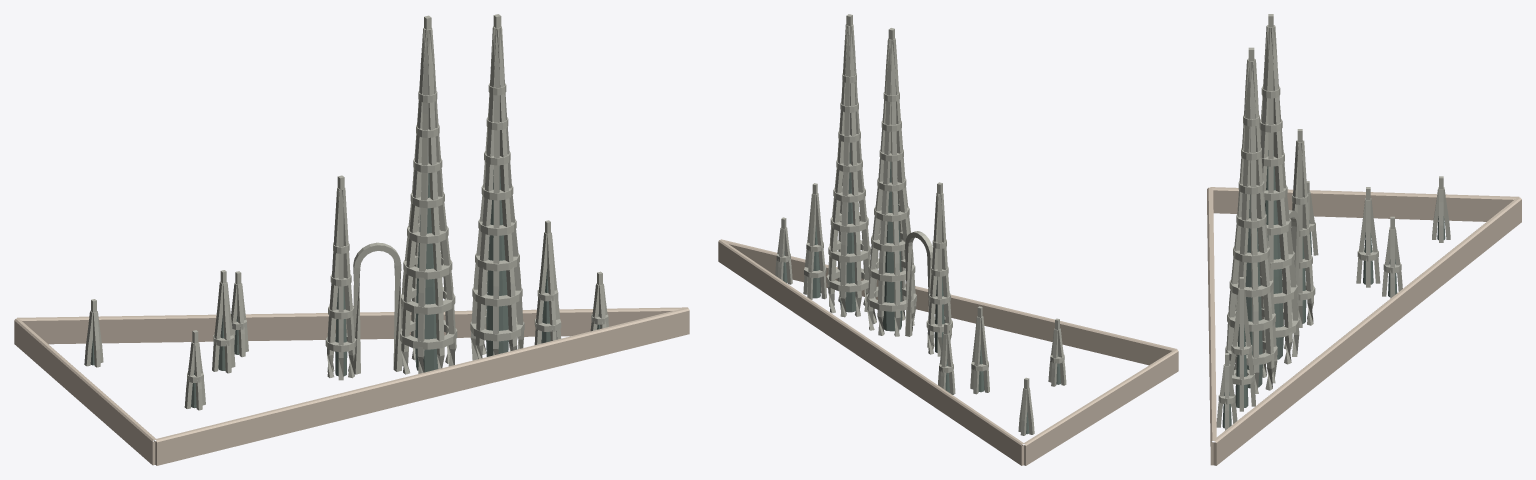
File: detail.glb
The picture shows the model from 3 angles, left to right: view 1: azimuth 30°, elevation 25°; view 2: azimuth 150°, elevation 25°; view 3: azimuth 270°, elevation 25°; orthographic projection. The views are drawn at different scales.
Visible parts, largest first — view 1: watts-towers; view 2: watts-towers; view 3: watts-towers.
Part boxes in pixels (box(x1,y1,x2,y2)): watts-towers: box(14, 14, 689, 465); watts-towers: box(718, 14, 1178, 465); watts-towers: box(1207, 14, 1521, 465).
Bounding box in the file's own units: 49.67 × 30.9 × 25.87.
